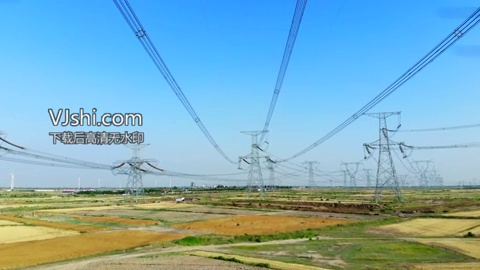tower_body: (362, 106, 409, 206), (236, 123, 276, 201)
tower_foot: (374, 178, 403, 203), (243, 181, 267, 198)
tower_head: (363, 109, 405, 119), (238, 126, 268, 139)
